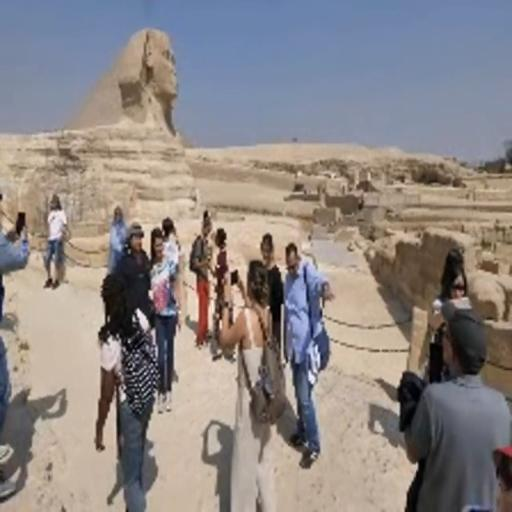nao-violencia: (116, 214, 186, 346), (188, 201, 234, 328)
